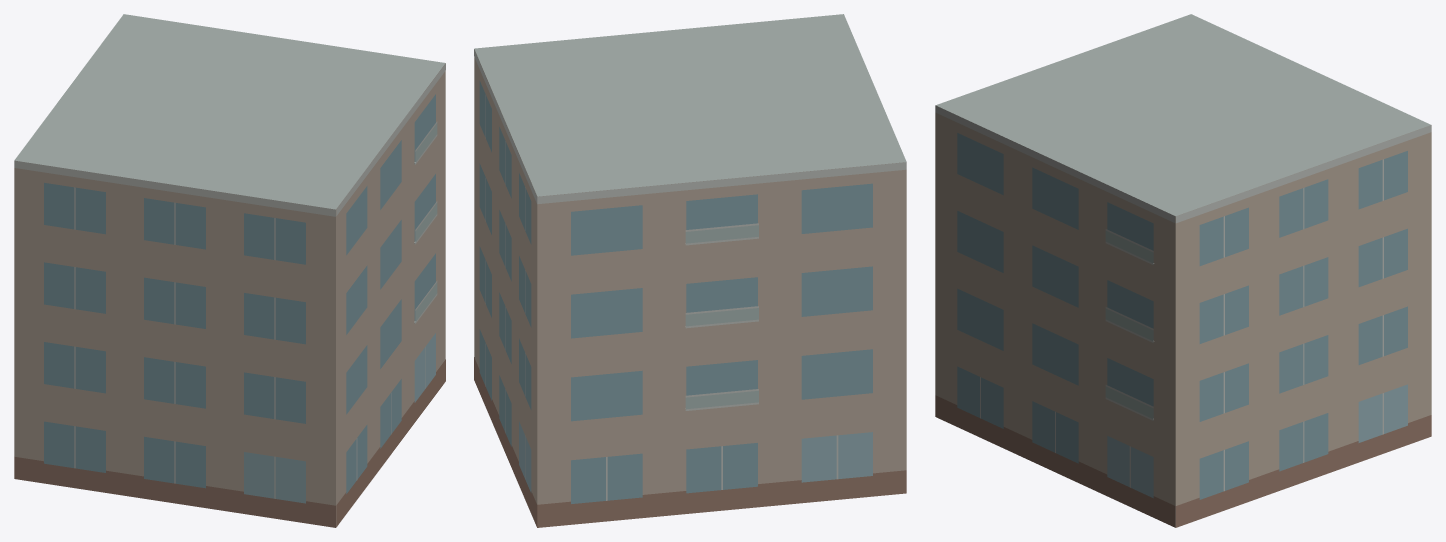
File: survey-upis-32625106.glb
3 renders of one model, left to right at view 1: azimuth 30°, elevation 25°; view 2: azimuth 150°, elevation 25°; view 3: azimuth 270°, elevation 25°, orthographic. The views are drawn at different scales.
Parts seen in each view (by area): view 1: survey-upis-32625106.tmp; view 2: survey-upis-32625106.tmp; view 3: survey-upis-32625106.tmp.
Boxes of the visible parts, x1,y1,x2,y2 form: survey-upis-32625106.tmp: [14, 14, 445, 527]; survey-upis-32625106.tmp: [474, 14, 906, 527]; survey-upis-32625106.tmp: [935, 14, 1431, 527].
Size of the model in its own units: 14.77 by 10.6 by 15.3.
